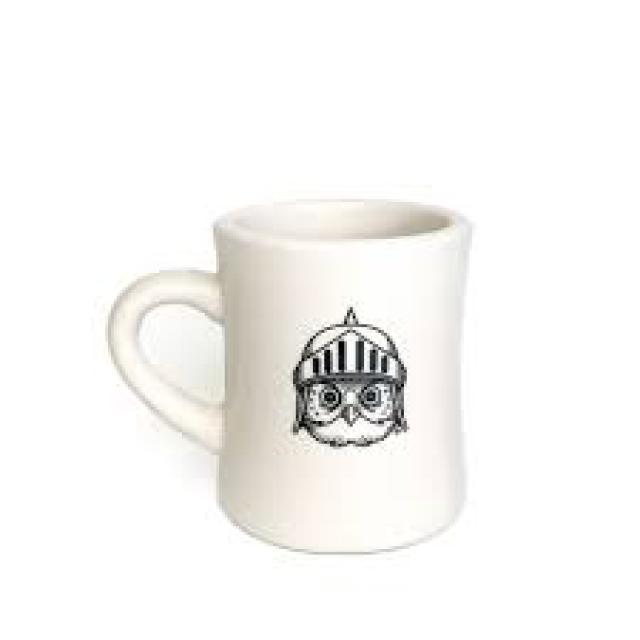taza: (108, 196, 472, 554)
